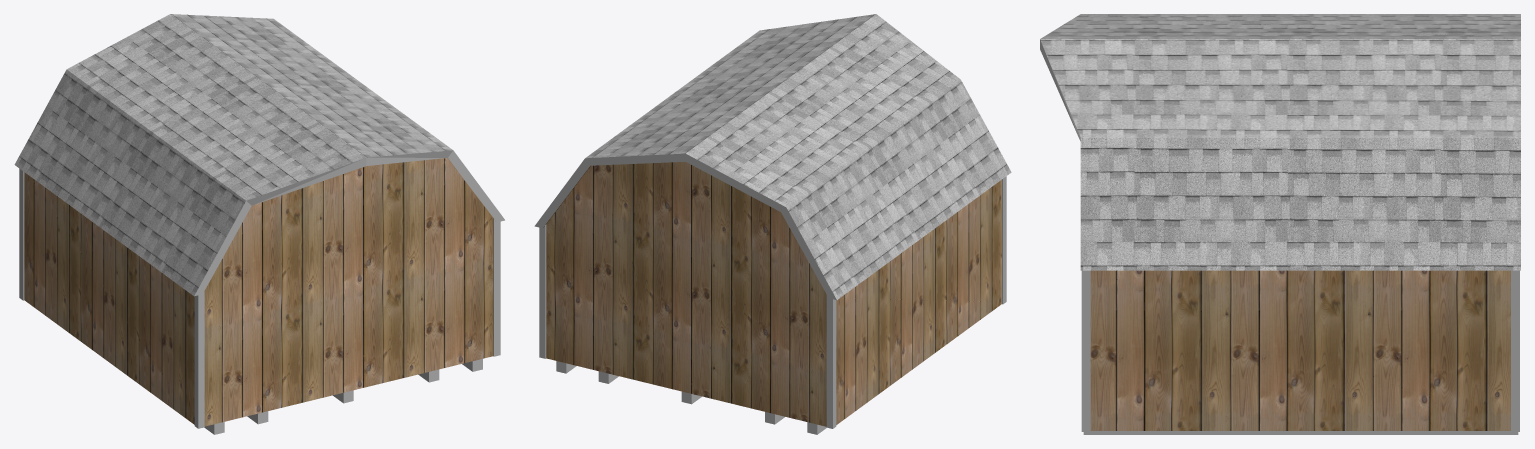
The model's file is Mini Barn Sheds_10x10.obj.
3 views of the same model, side by side, from view 1: azimuth 30°, elevation 25°; view 2: azimuth 150°, elevation 25°; view 3: azimuth 270°, elevation 25° (orthographic). The views are drawn at different scales.
Parts seen in each view (by area): view 1: Shed, Roof, Trim, Sides, Floor; view 2: Shed, Roof, Sides, Trim, Floor; view 3: Roof, Shed, Trim, Floor.
Boxes of the visible parts, x1,y1,x2,y2 form: Shed: (24, 158, 493, 426); Roof: (14, 14, 452, 295); Trim: (19, 168, 500, 428); Sides: (194, 150, 504, 296); Floor: (204, 359, 482, 434); Shed: (543, 162, 1001, 426); Roof: (585, 14, 1011, 299); Sides: (534, 153, 836, 299); Trim: (539, 176, 1006, 428); Floor: (556, 361, 826, 434); Roof: (1040, 14, 1520, 270); Shed: (1090, 270, 1510, 430); Trim: (1081, 270, 1519, 431); Floor: (1083, 431, 1518, 434).
Size of the model in its own units: 3.09 by 2.44 by 3.37.
